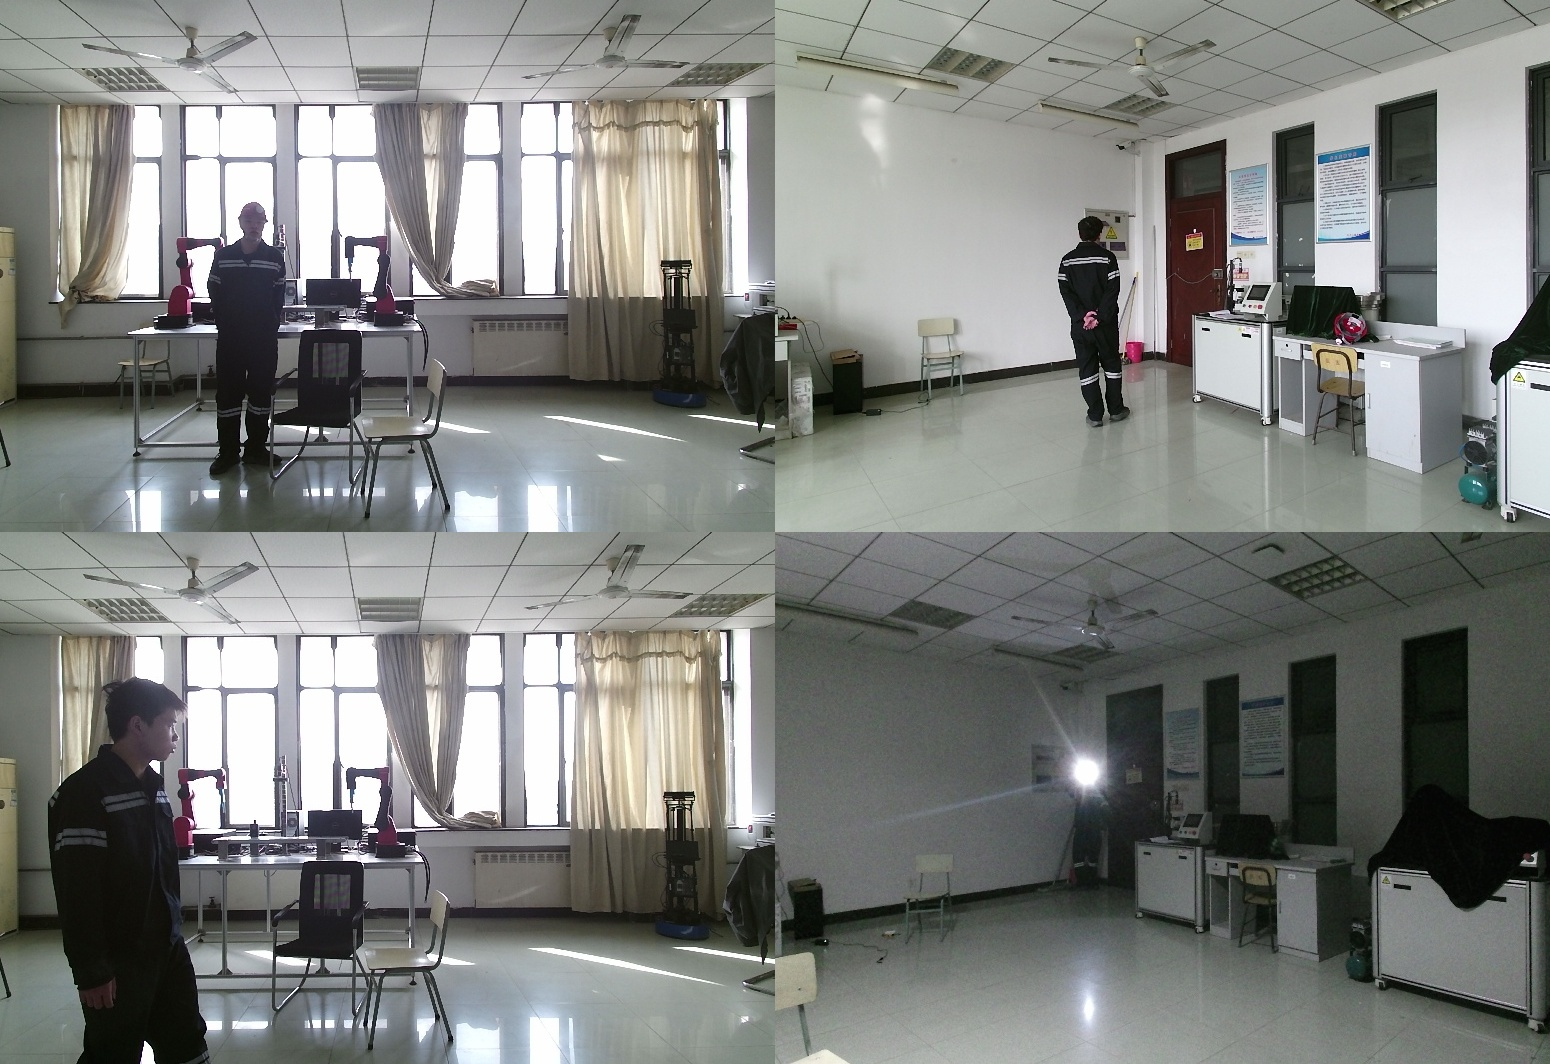person: (51, 679, 218, 1064), (206, 202, 290, 479), (1054, 215, 1135, 432), (1063, 768, 1108, 886)
